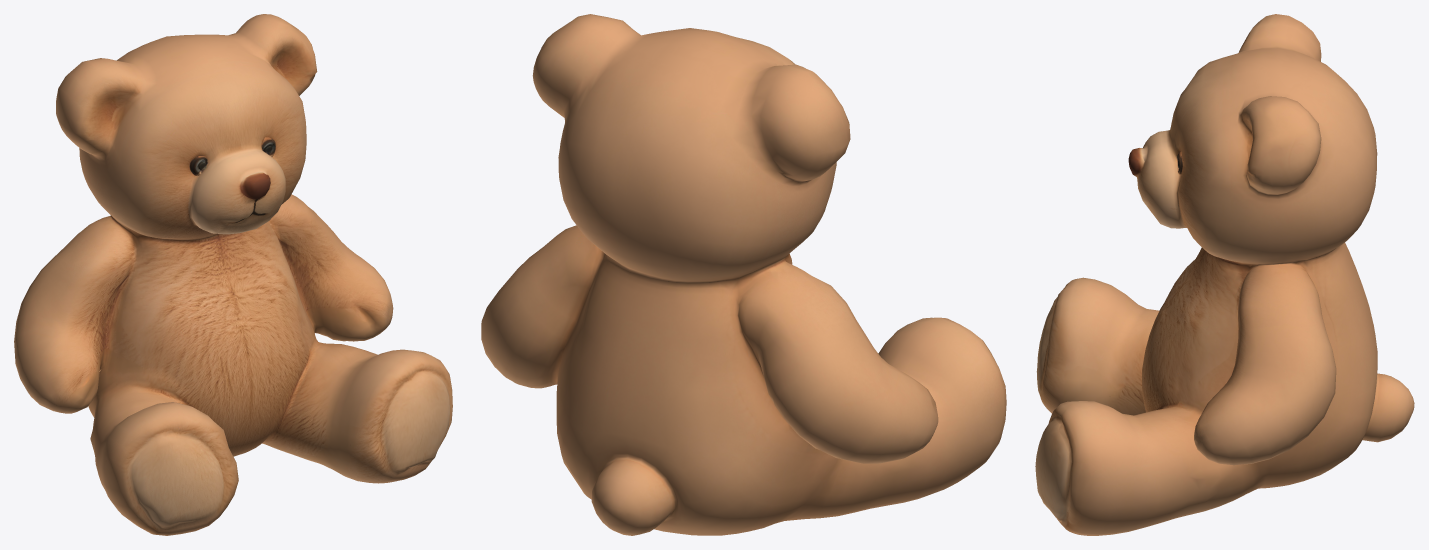
File: teddybear2.glb
3 renders of one model, left to right at view 1: azimuth 30°, elevation 25°; view 2: azimuth 150°, elevation 25°; view 3: azimuth 270°, elevation 25°, orthographic. The views are drawn at different scales.
Visible parts, largest first — view 1: tripo_node_7cf12cfc-c9e3-45fe-b333-10089a3917f3; view 2: tripo_node_7cf12cfc-c9e3-45fe-b333-10089a3917f3; view 3: tripo_node_7cf12cfc-c9e3-45fe-b333-10089a3917f3.
Boxes of the visible parts, <box> form: tripo_node_7cf12cfc-c9e3-45fe-b333-10089a3917f3: <box>14,14,452,535</box>; tripo_node_7cf12cfc-c9e3-45fe-b333-10089a3917f3: <box>481,14,1006,535</box>; tripo_node_7cf12cfc-c9e3-45fe-b333-10089a3917f3: <box>1035,14,1414,535</box>.
Size of the model in its own units: 0.9243 by 0.9995 by 0.8247.
1 material, 1 textured.
